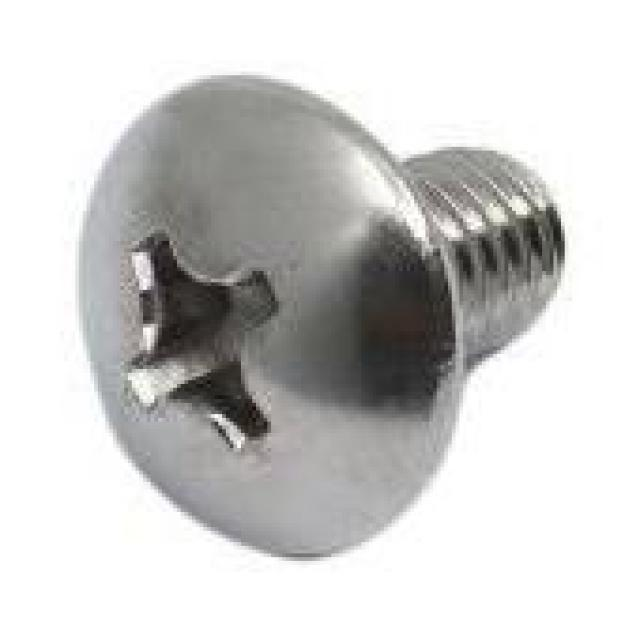Dry Waste: (37, 42, 605, 565)
